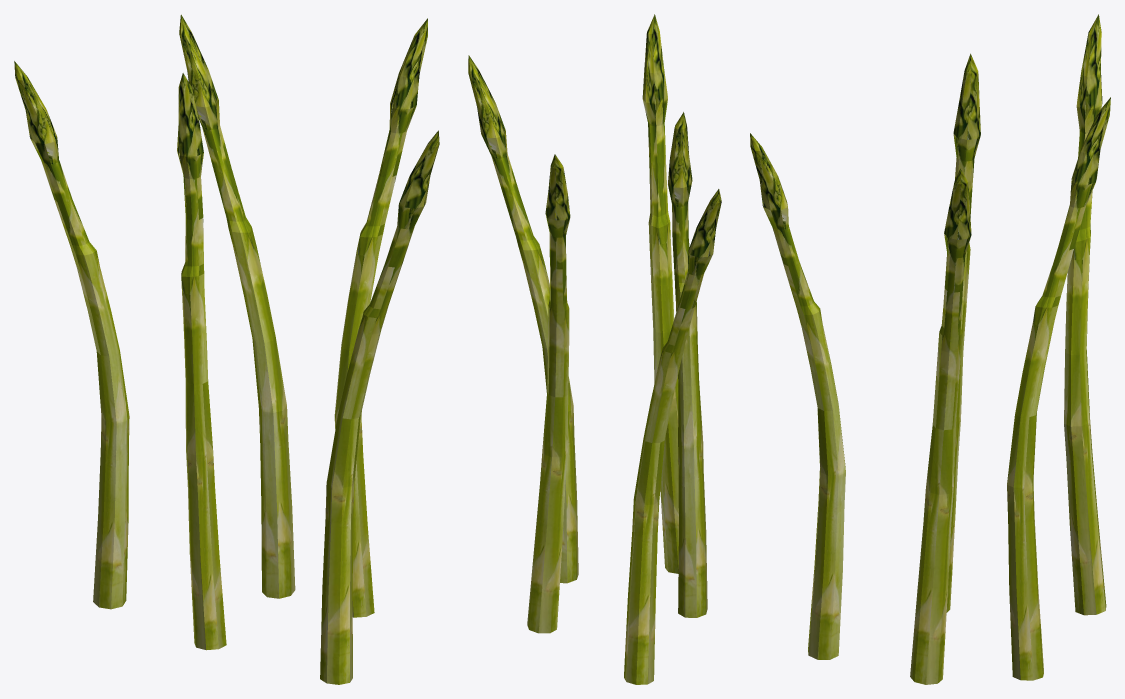
File: Asparagus.fbx
3 views of the same model, side by side, from view 1: azimuth 30°, elevation 25°; view 2: azimuth 150°, elevation 25°; view 3: azimuth 270°, elevation 25° (orthographic). The views are drawn at different scales.
Visible parts, largest first — view 1: Circle.004; view 2: Circle.004; view 3: Circle.004.
Part boxes in pixels (x1=…): Circle.004: x1=14, y1=14, x2=439, y2=684; Circle.004: x1=468, y1=14, x2=721, y2=684; Circle.004: x1=750, y1=14, x2=1110, y2=684.
Bounding box in the file's own units: 125 × 199 × 116.
1 material, 1 textured.
